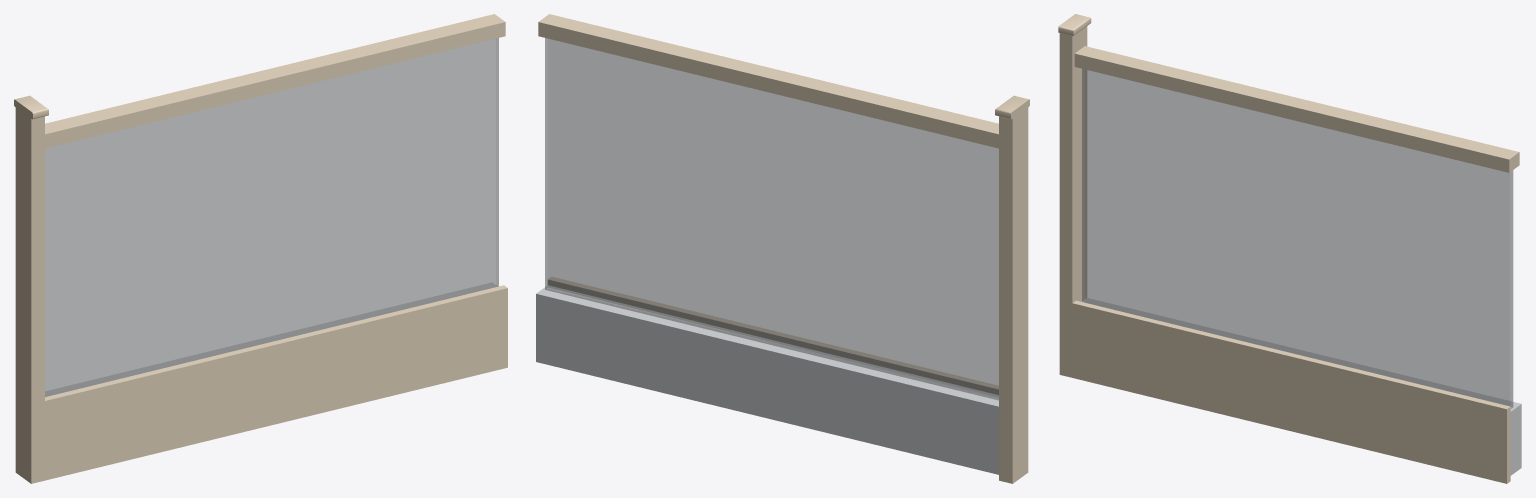
The model's file is SK02__Storey__FirstFloor__ProposedStairs__MeshModel__.glb.
The picture shows the model from 3 angles, left to right: view 1: azimuth 30°, elevation 25°; view 2: azimuth 150°, elevation 25°; view 3: azimuth 330°, elevation 25°; orthographic projection. The views are drawn at different scales.
Parts seen in each view (by area): view 1: 26__ProposedBuilding__Staircase::MAT101__Glass__ClearDefault, 26__ProposedBuilding__Staircase::MAT120__Wood__TimberDefault, 26__ProposedBuilding__Staircase::MAT616__Metal__Ironmongery_; view 2: 26__ProposedBuilding__Staircase::MAT101__Glass__ClearDefault, 26__ProposedBuilding__Staircase::MAT616__Metal__Ironmongery_, 26__ProposedBuilding__Staircase::MAT120__Wood__TimberDefault; view 3: 26__ProposedBuilding__Staircase::MAT101__Glass__ClearDefault, 26__ProposedBuilding__Staircase::MAT120__Wood__TimberDefault, 26__ProposedBuilding__Staircase::MAT616__Metal__Ironmongery_.
Boxes of the visible parts, bbox=[...] form: 26__ProposedBuilding__Staircase::MAT101__Glass__ClearDefault: bbox=[45, 38, 498, 396]; 26__ProposedBuilding__Staircase::MAT120__Wood__TimberDefault: bbox=[14, 14, 507, 483]; 26__ProposedBuilding__Staircase::MAT616__Metal__Ironmongery_: bbox=[45, 282, 497, 396]; 26__ProposedBuilding__Staircase::MAT101__Glass__ClearDefault: bbox=[545, 38, 998, 400]; 26__ProposedBuilding__Staircase::MAT616__Metal__Ironmongery_: bbox=[536, 285, 998, 474]; 26__ProposedBuilding__Staircase::MAT120__Wood__TimberDefault: bbox=[538, 14, 1029, 483]; 26__ProposedBuilding__Staircase::MAT101__Glass__ClearDefault: bbox=[1082, 69, 1513, 408]; 26__ProposedBuilding__Staircase::MAT120__Wood__TimberDefault: bbox=[1058, 14, 1519, 483]; 26__ProposedBuilding__Staircase::MAT616__Metal__Ironmongery_: bbox=[1082, 298, 1521, 475].
Bounding box in the file's own units: 1.76 × 1.31 × 0.12.
